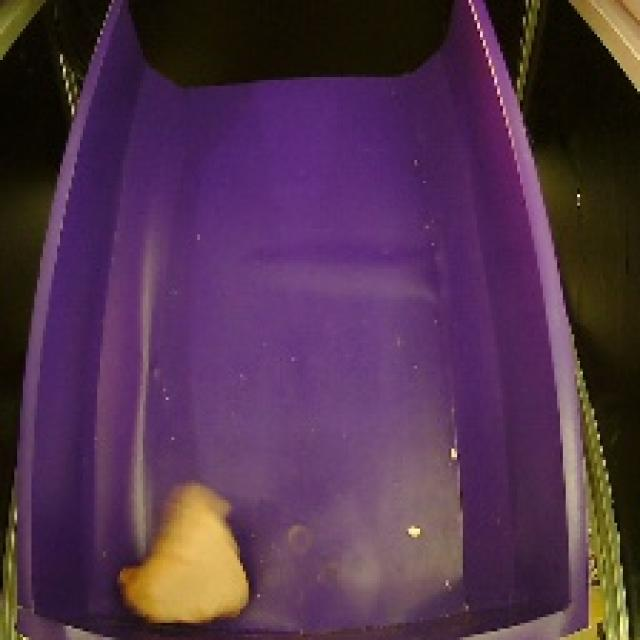brick: (110, 475, 256, 632)
